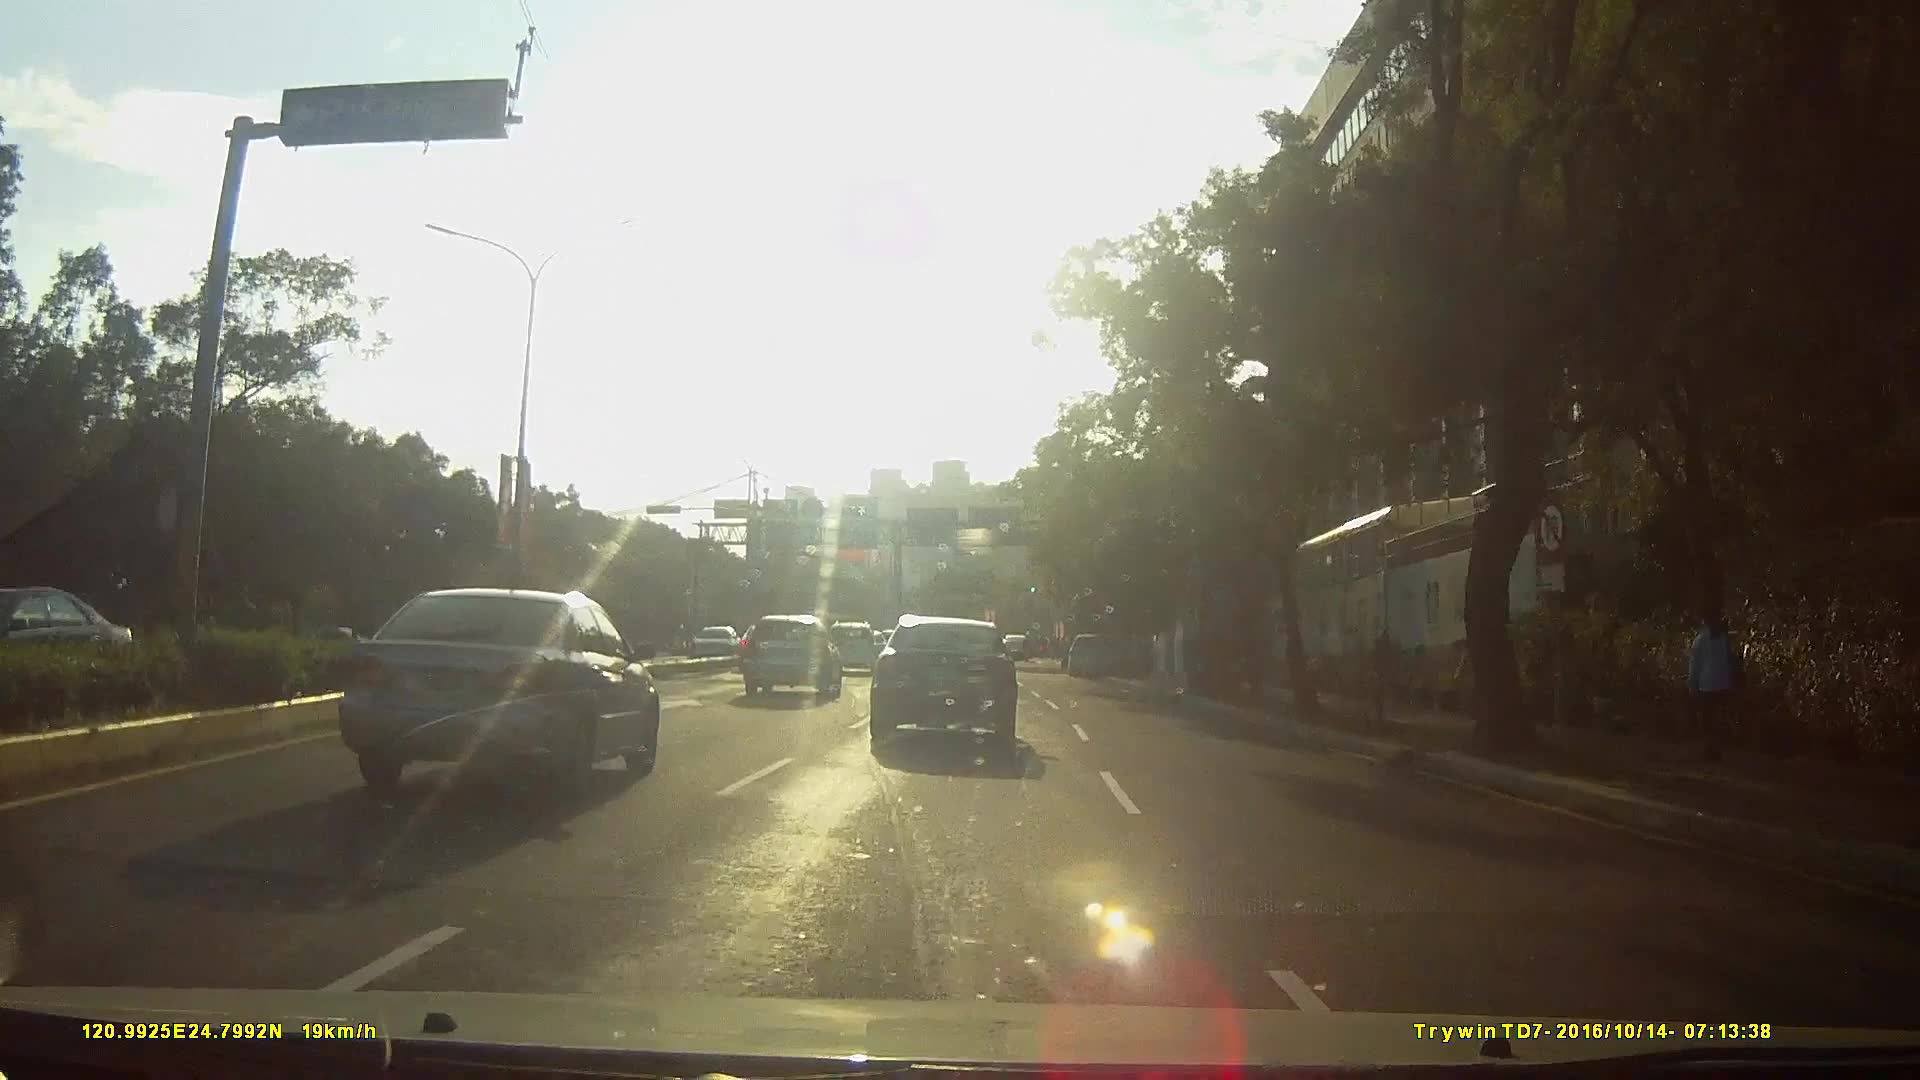pedestrian: (1689, 595, 1751, 770)
vehicle: (314, 583, 670, 805), (866, 612, 1036, 757), (1, 582, 155, 698), (735, 610, 838, 701), (817, 615, 875, 673), (687, 619, 746, 663), (1064, 629, 1116, 677)
